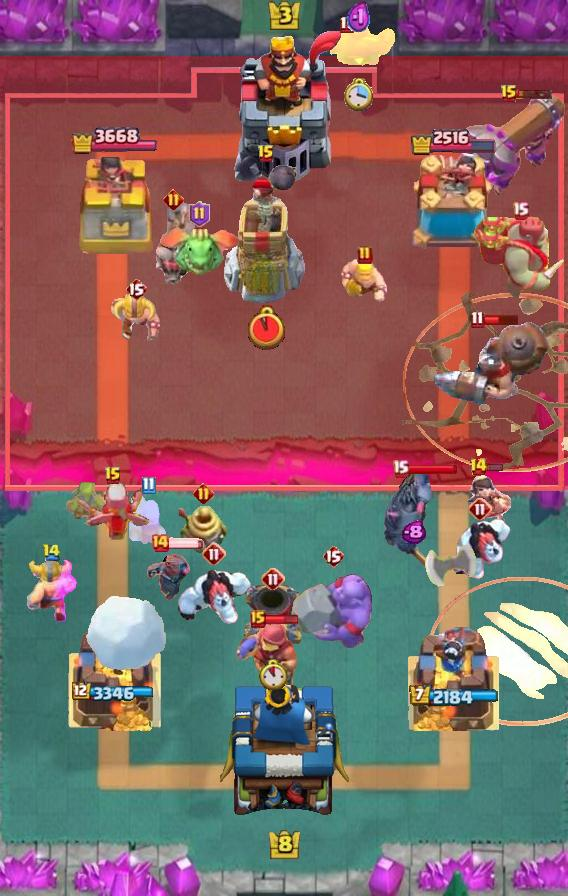archer: (340, 259, 390, 303)
archer-queen: (289, 573, 377, 653)
battle-ram: (145, 548, 201, 604)
electro-spirit: (347, 0, 371, 36), (401, 519, 426, 545)
electro-wizard: (158, 223, 240, 277)
elite-barbarian: (151, 201, 195, 287)
elixir: (248, 305, 285, 350), (344, 79, 374, 113), (259, 658, 287, 689)
emote: (406, 463, 458, 475), (484, 314, 521, 327), (167, 537, 205, 549), (516, 88, 553, 100), (264, 614, 300, 625), (484, 462, 503, 472)
fireball: (234, 618, 300, 700)
furnace: (460, 90, 568, 200)
goblin-drill: (179, 505, 227, 553)
goblin-giant: (26, 557, 77, 623), (109, 291, 163, 345)
golemite: (382, 471, 444, 575)
guard: (402, 292, 568, 471)
ice-wizard: (428, 578, 568, 727)
king-tower: (219, 678, 349, 826), (223, 31, 345, 181)
lava-hound: (472, 216, 568, 302)
musketeer: (242, 581, 304, 649)
poison: (69, 475, 157, 549)
queen-tower: (66, 621, 162, 731), (405, 154, 501, 256), (407, 627, 499, 731), (71, 154, 157, 256)
rage: (175, 567, 253, 627), (448, 517, 512, 583)
royal-giant: (425, 545, 477, 605)
selected: (71, 124, 157, 158), (409, 127, 497, 156), (408, 685, 498, 708), (72, 681, 156, 702)
skeleton-dragon: (466, 471, 516, 527)
text: (468, 497, 492, 521), (202, 542, 226, 566), (261, 567, 285, 591), (190, 201, 211, 227), (125, 277, 147, 301), (322, 544, 344, 568), (163, 189, 185, 210), (193, 483, 215, 504), (150, 533, 170, 553), (468, 457, 487, 477), (42, 542, 61, 561), (500, 84, 518, 104), (257, 144, 275, 164), (104, 466, 122, 486), (511, 201, 529, 219), (391, 458, 408, 477), (357, 245, 373, 265), (250, 610, 266, 628), (140, 477, 155, 496), (470, 311, 485, 329), (339, 15, 353, 34)
tombstone: (127, 490, 169, 548)
tornado: (322, 21, 396, 73)
wall-breaker: (85, 594, 169, 672)
wizard: (430, 318, 550, 408)
zap: (64, 482, 108, 524)
zappy: (222, 164, 310, 308)
